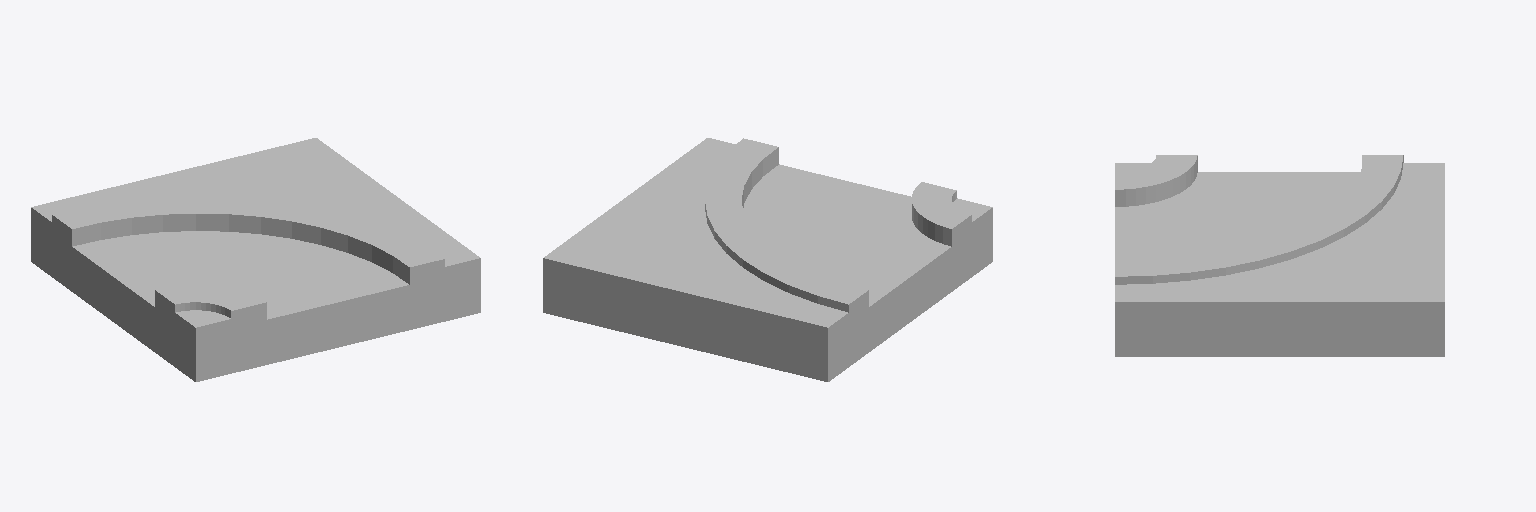
File: tile158.obj
The picture shows the model from 3 angles: view 1: azimuth 30°, elevation 25°; view 2: azimuth 150°, elevation 25°; view 3: azimuth 270°, elevation 25°; orthographic projection.
Parts seen in each view (by area): view 1: tile158; view 2: tile158; view 3: tile158.
Part boxes in pixels (x1,y1,x2,y2): tile158: (31,138,480,381); tile158: (543,138,992,381); tile158: (1115,155,1444,356).
Bounding box in the file's own units: 1 × 0.21 × 1.